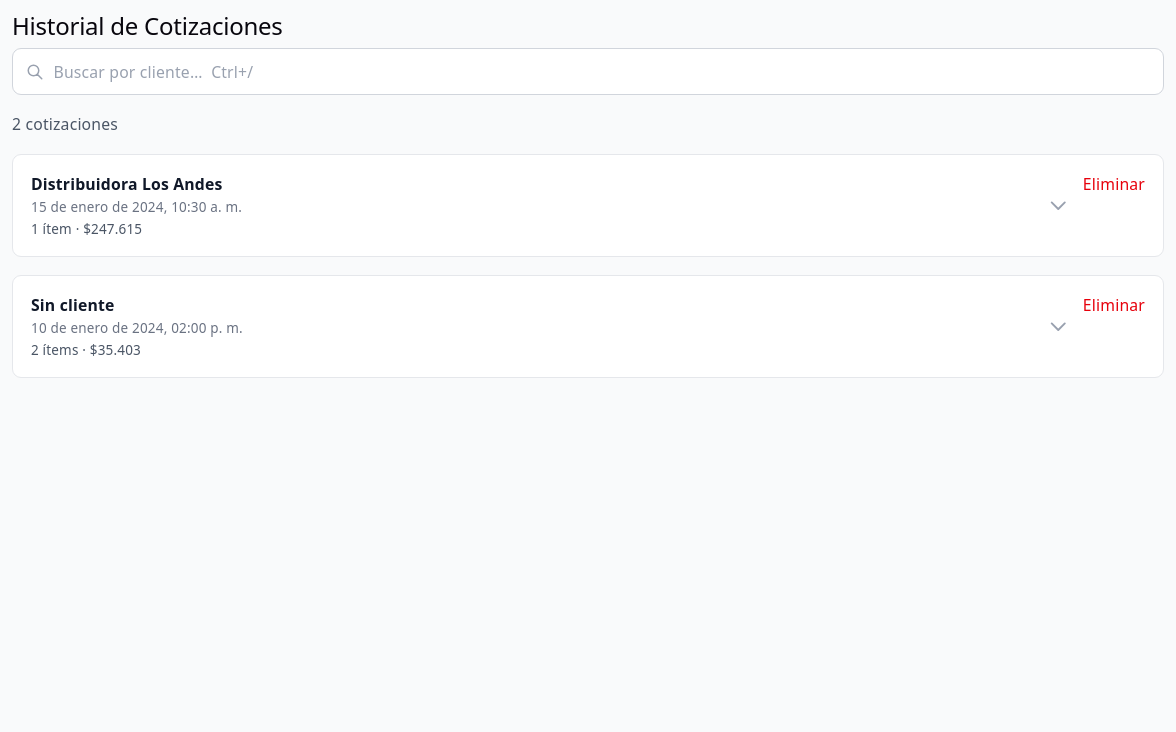
Test case: QuoteHistory › with quotes › should delete a quote through the repo when confirmed
expect the text "15 de enero de 2024, 10:30 a. m." is shown: met, box [31,198,242,216]
Click the 1st button "Eliminar".
click(1114, 184)  # box [1083,173,1145,195]
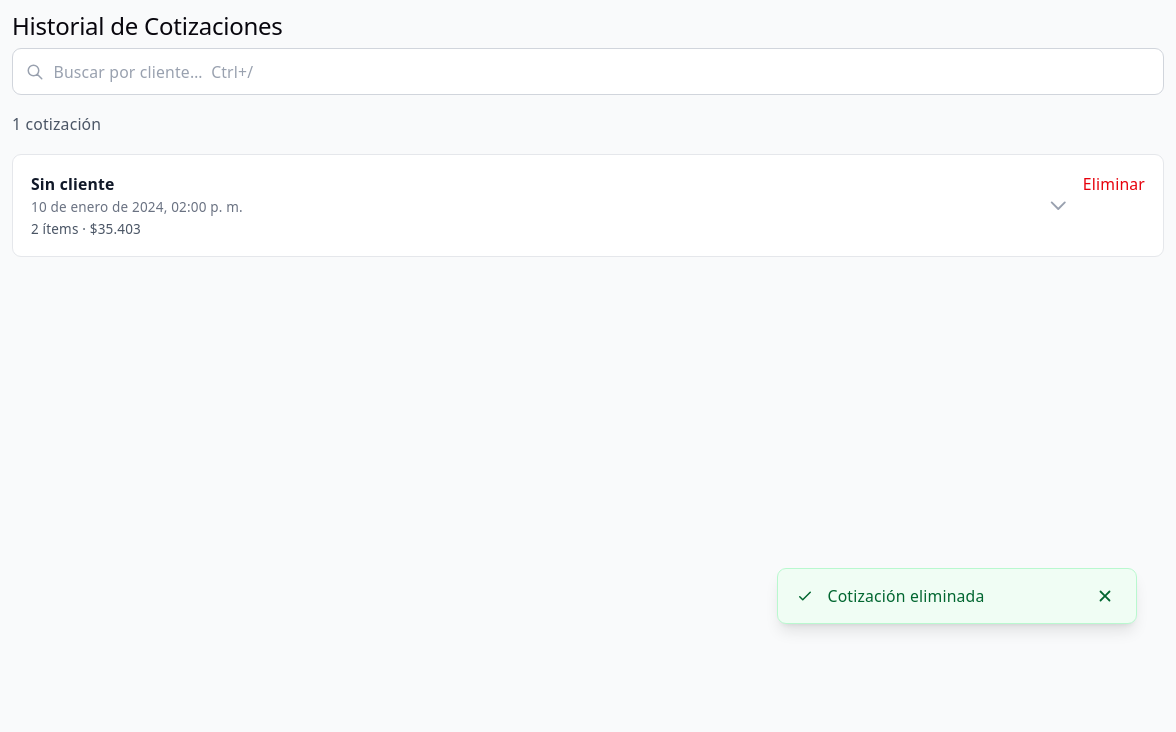
expect the button "15 de enero de 2024" is gone: met
